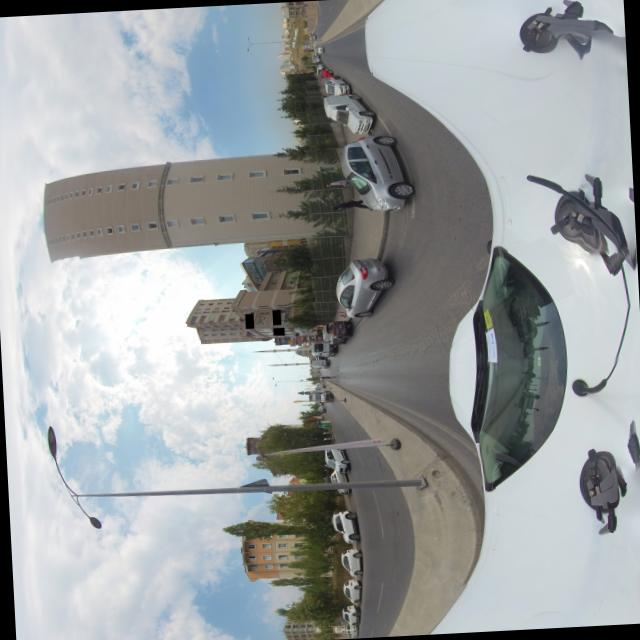SignStore: (246, 313, 254, 328), (273, 309, 281, 324), (273, 327, 285, 335)
